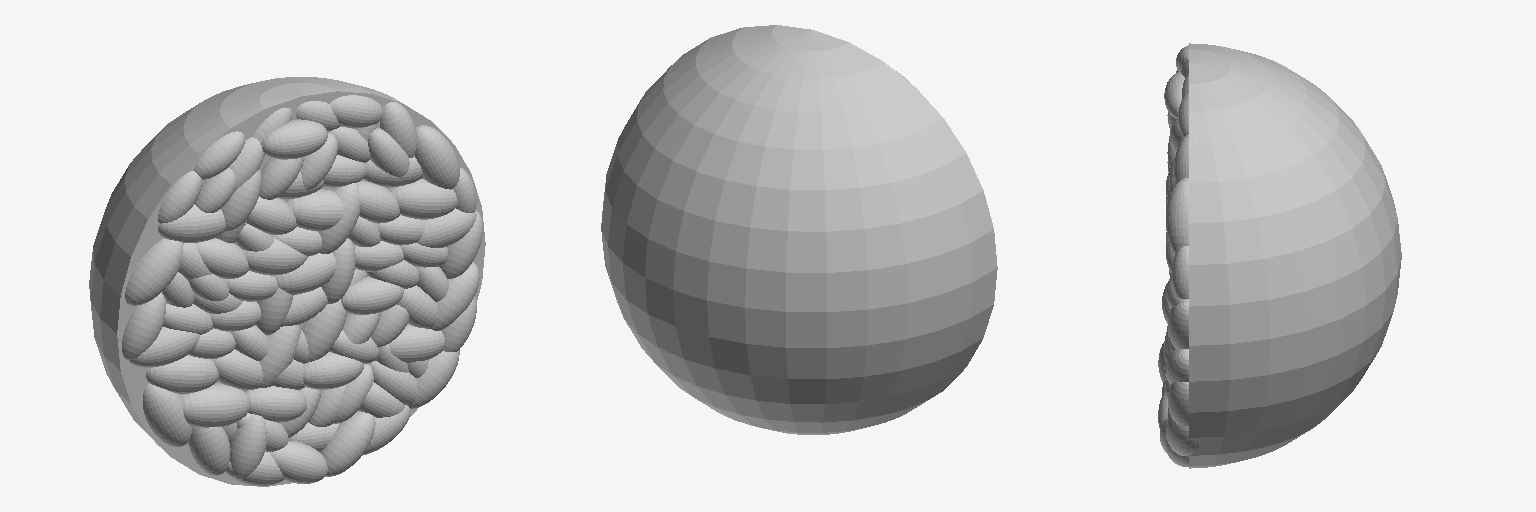
Rendered from spors.obj.
3 renders of one model, left to right at view 1: azimuth 30°, elevation 25°; view 2: azimuth 150°, elevation 25°; view 3: azimuth 270°, elevation 25°, orthographic.
Parts seen in each view (by area): view 1: half-ball_Sphere.001; view 2: half-ball_Sphere.001; view 3: half-ball_Sphere.001.
Boxes of the visible parts, <box> form: half-ball_Sphere.001: <box>89,77,485,486</box>; half-ball_Sphere.001: <box>601,25,997,434</box>; half-ball_Sphere.001: <box>1158,43,1401,468</box>.
Bounding box in the file's own units: 1.86 × 1.86 × 1.07.